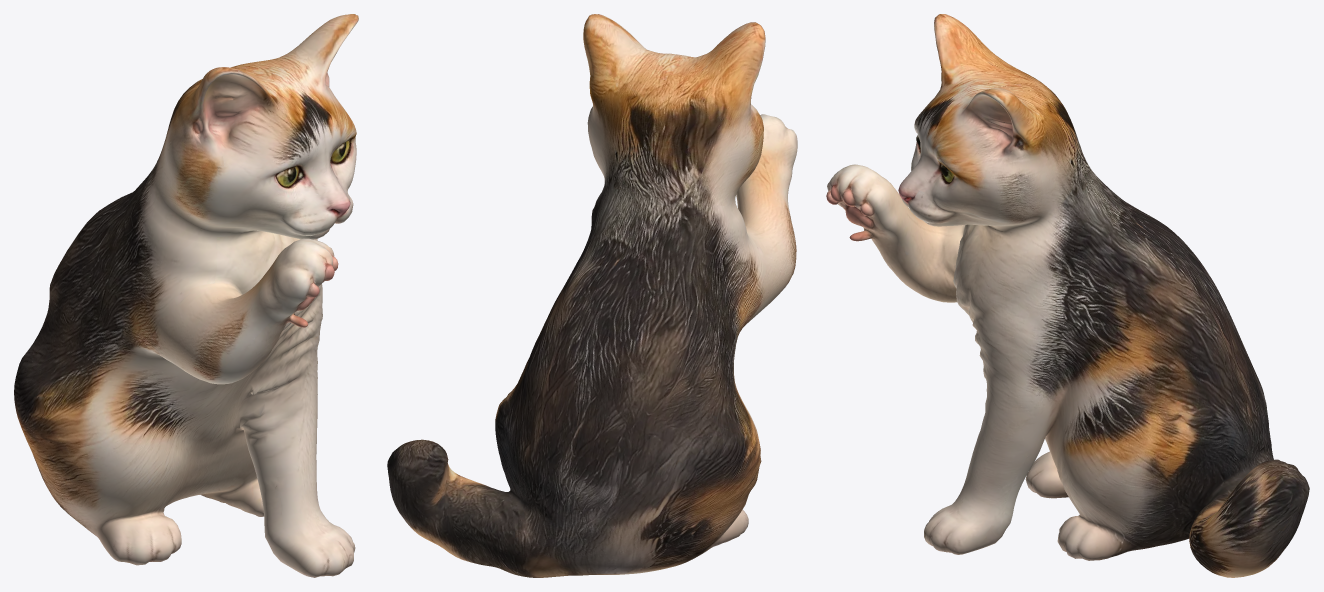
File: miaobubu.glb
3 views of the same model, side by side, from view 1: azimuth 30°, elevation 25°; view 2: azimuth 150°, elevation 25°; view 3: azimuth 270°, elevation 25° (orthographic). The views are drawn at different scales.
Visible parts, largest first — view 1: model; view 2: model; view 3: model.
Boxes of the visible parts, x1=… form: model: x1=14, y1=14, x2=358, y2=577; model: x1=387, y1=14, x2=797, y2=577; model: x1=826, y1=14, x2=1309, y2=577.
Size of the model in its own units: 1.24 by 1.9 by 1.71.
1 material, 1 textured.
